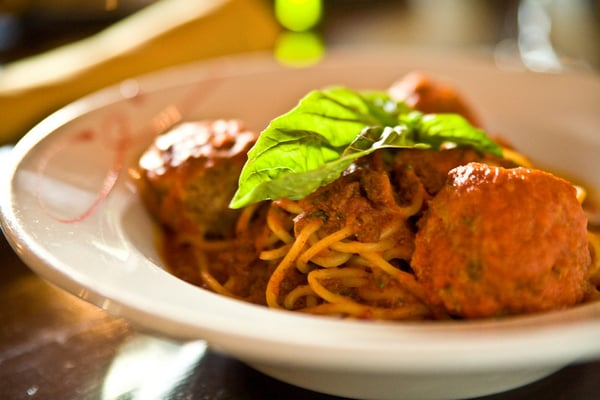sushi: (4, 4, 600, 393)
